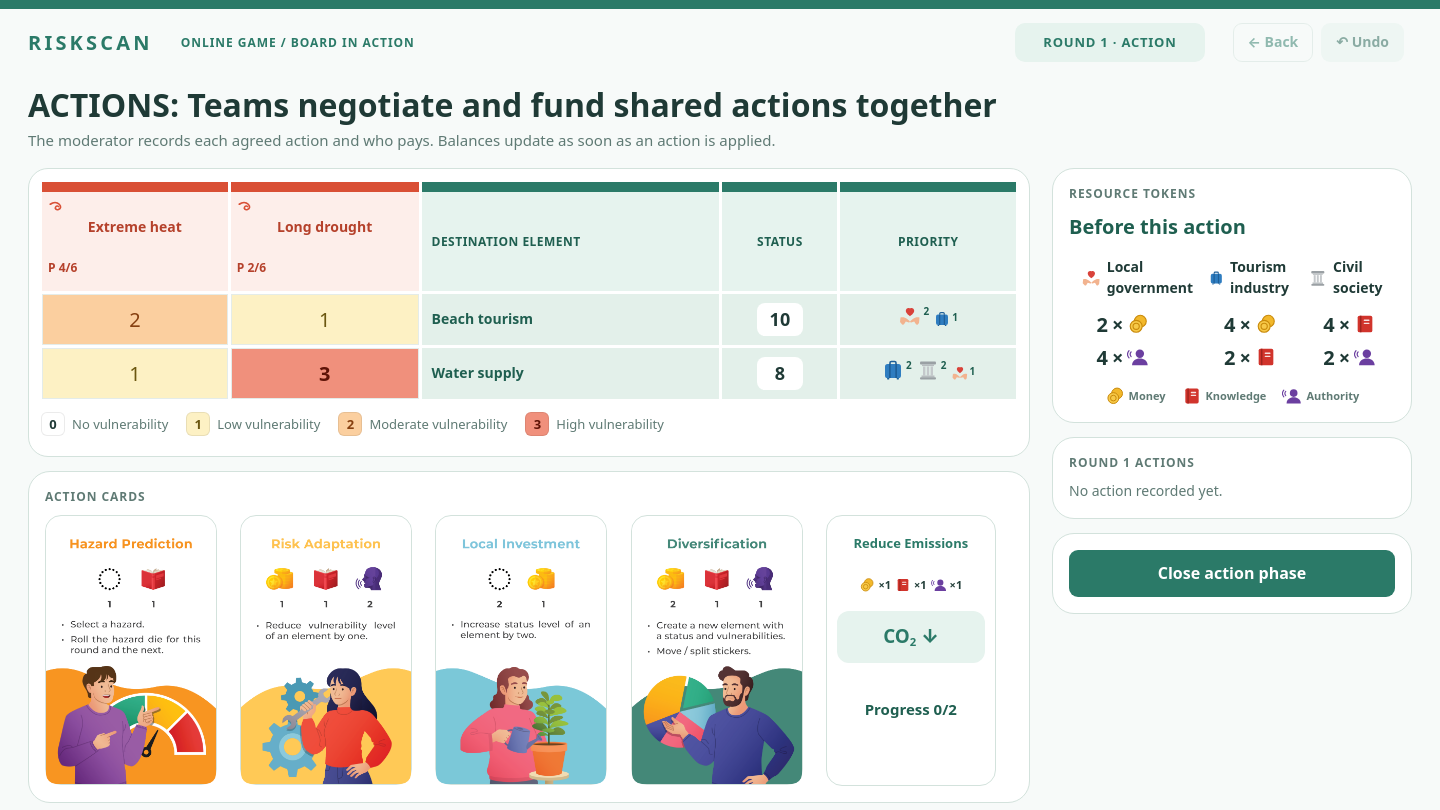
Test case: ModeratorPage › records a paid action with who pays and shows the result
Click the 3rd button named "Local Investment": click(521, 650) [435,515,607,785]
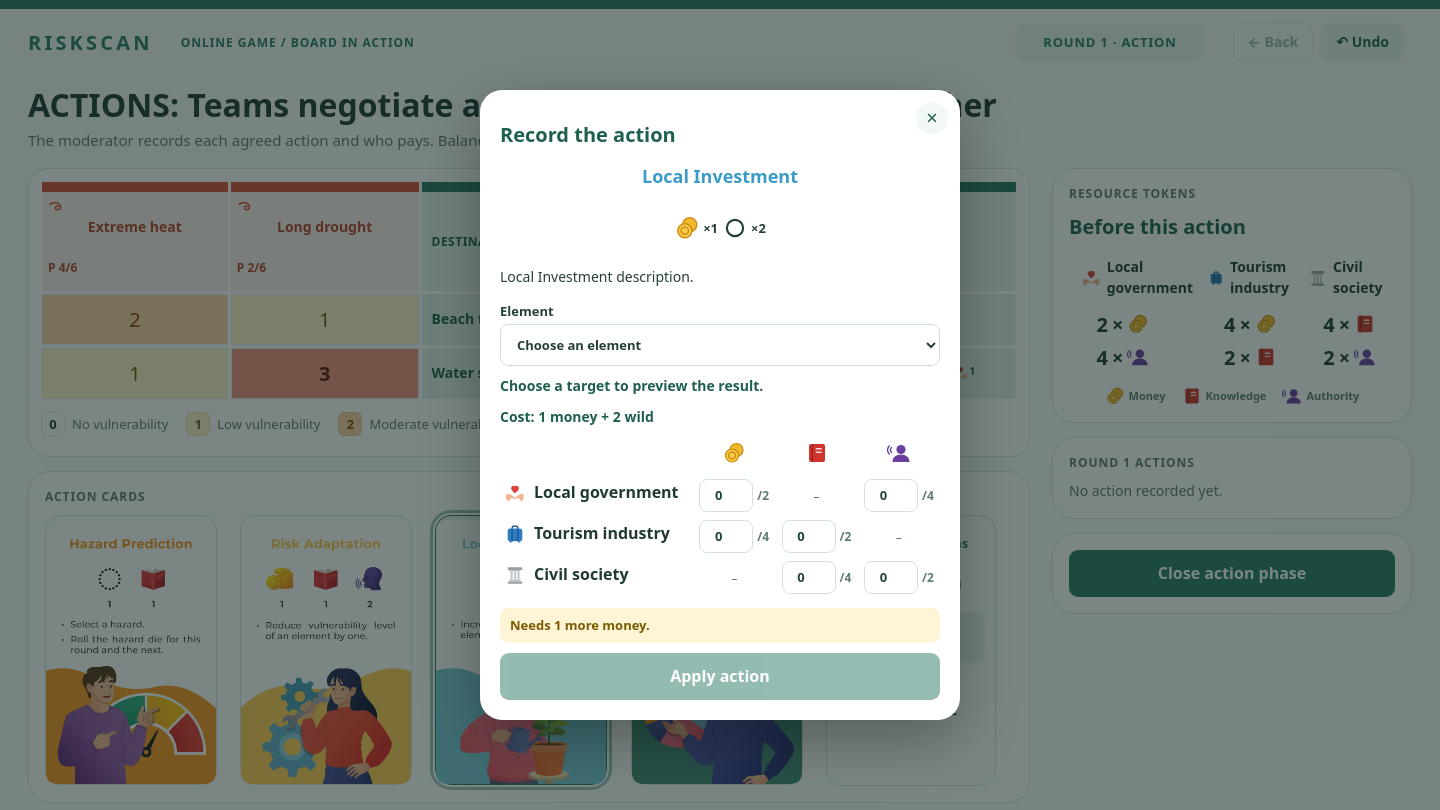
Select "Water supply (status 8)" in the dropdown labelled "Element": (720, 345) [500,324,940,366]
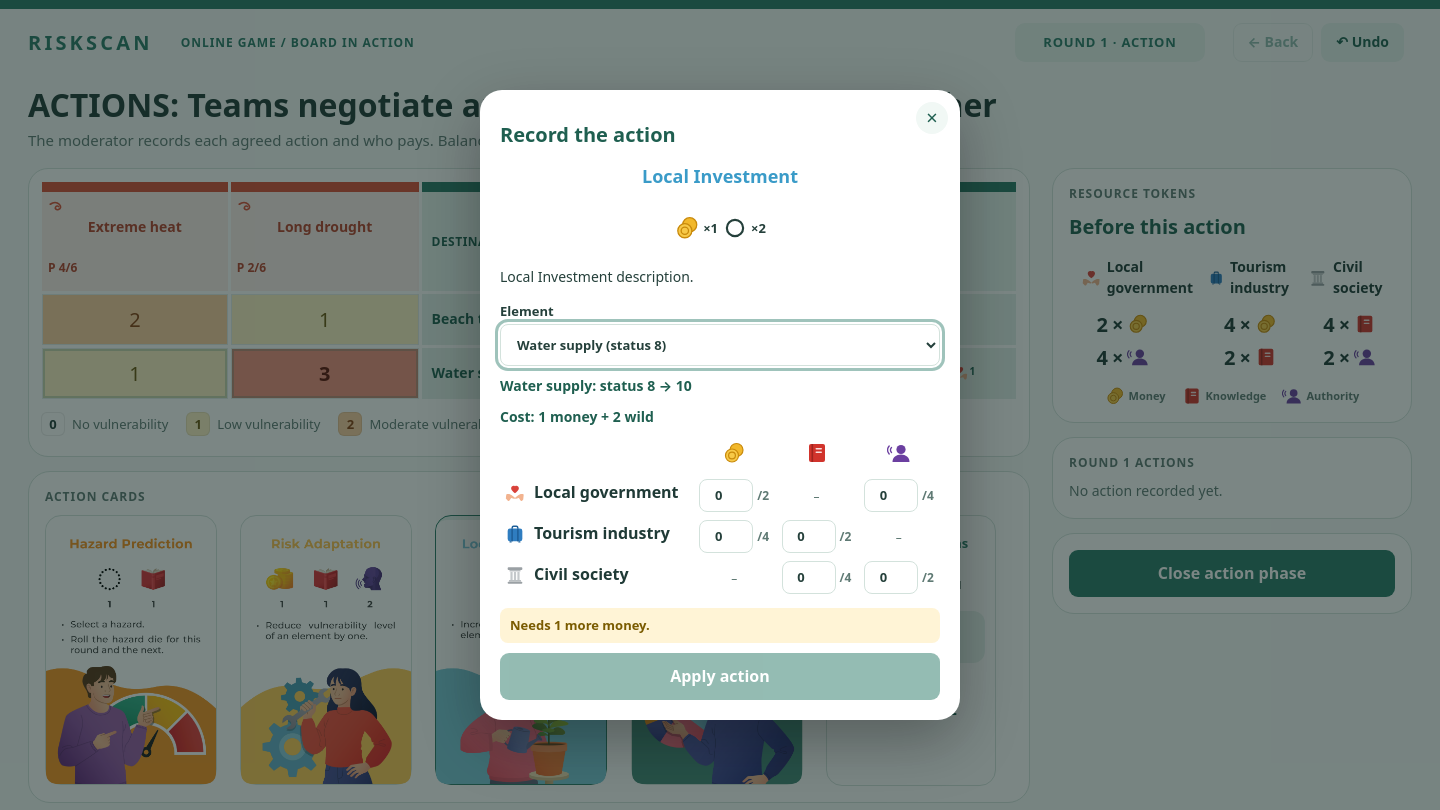
In the number field named "Tourism Industry pays money": (726, 536) [699,520,753,553], type "3"
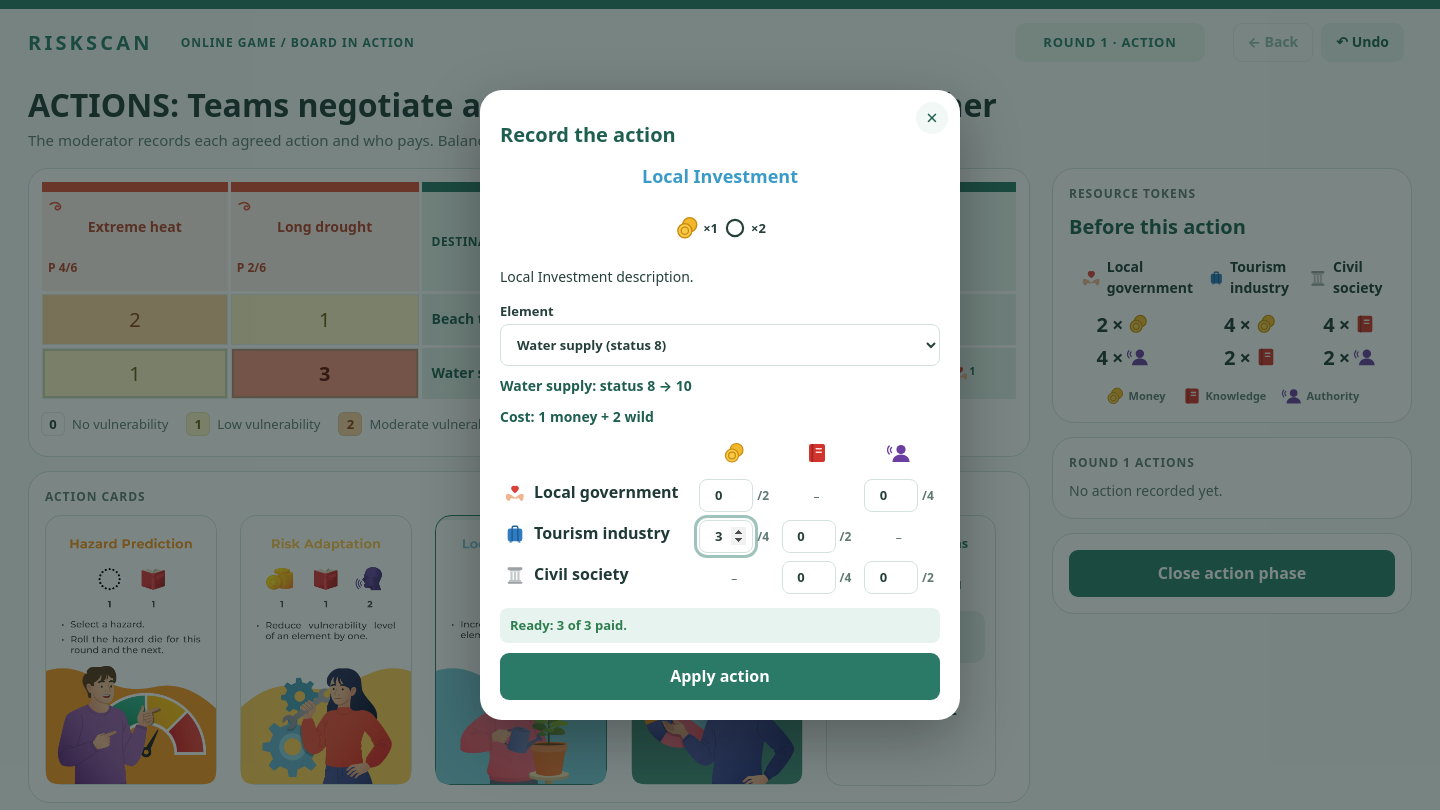
Click the button "Apply action": click(720, 676) [500,653,940,700]
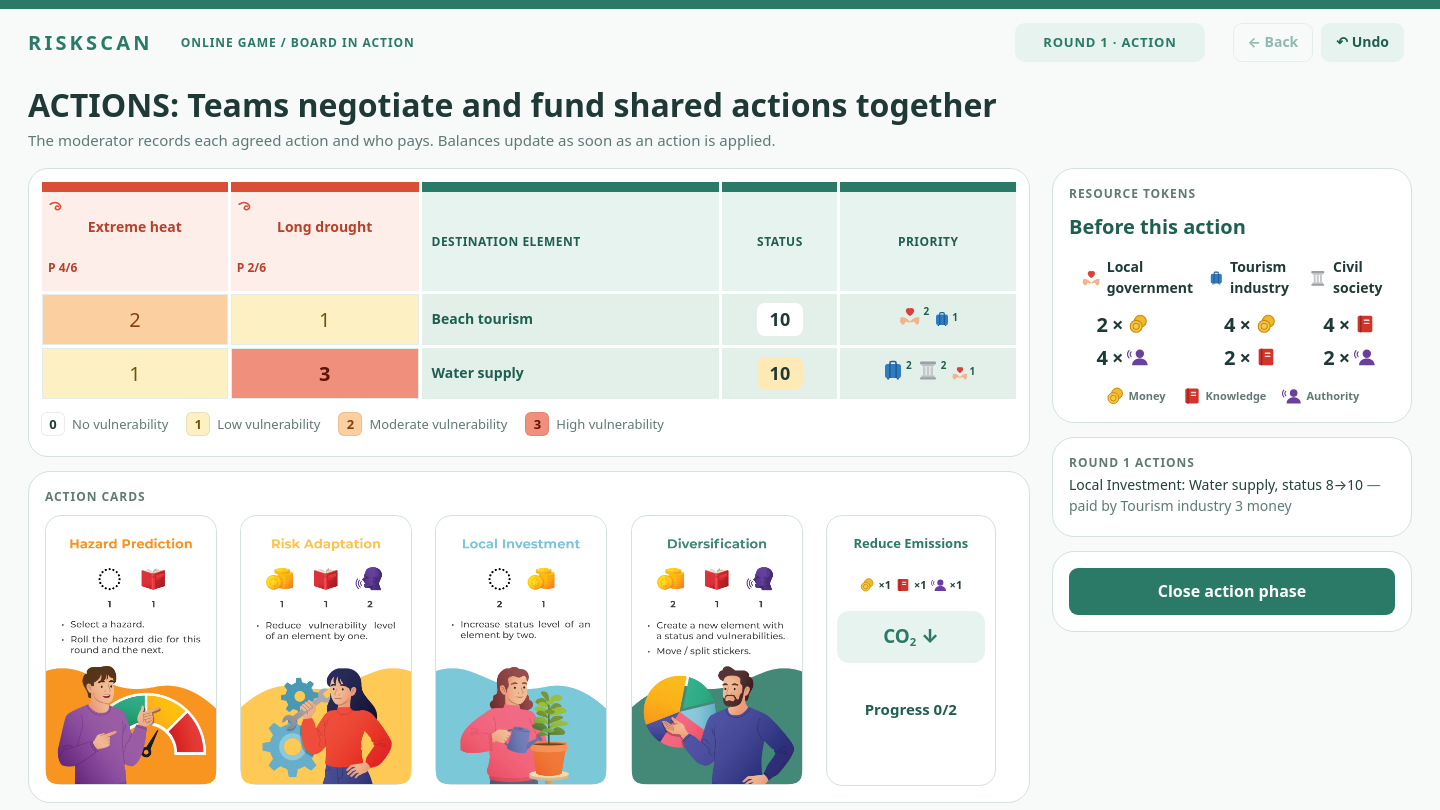
Check: the text "— paid by Tourism industry 3 money" is shown, box [1069,475,1381,515]
